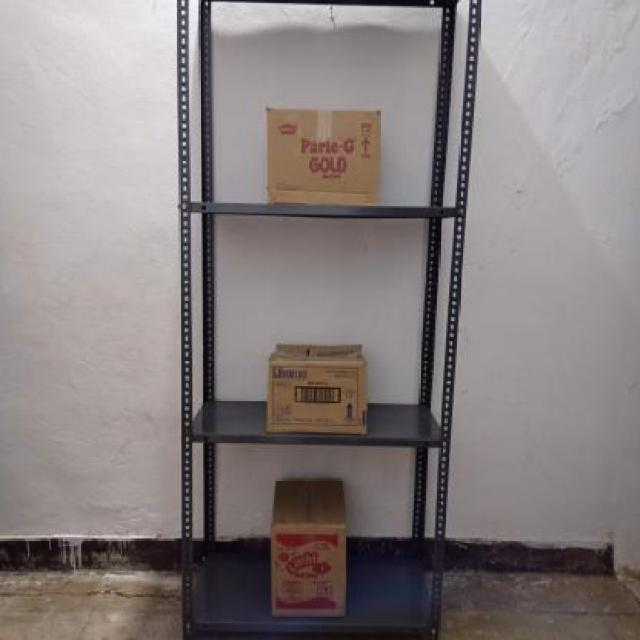box: (267, 108, 382, 208), (264, 358, 364, 433), (269, 524, 346, 618)
